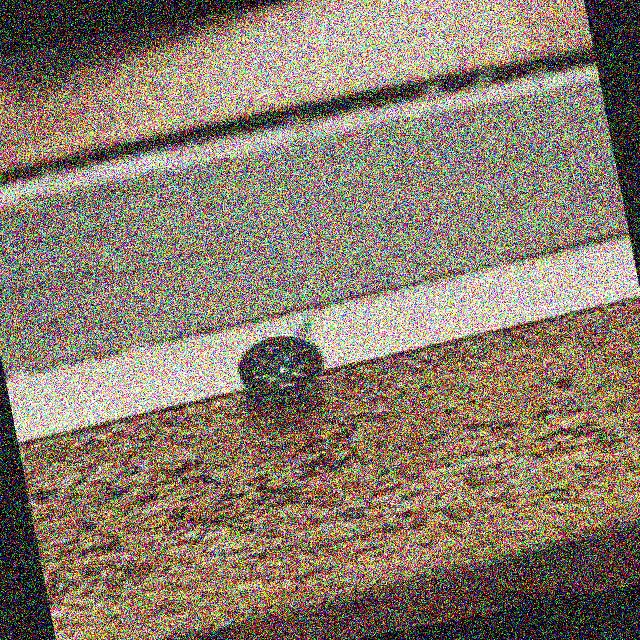pozidriv: (232, 325, 331, 408)
